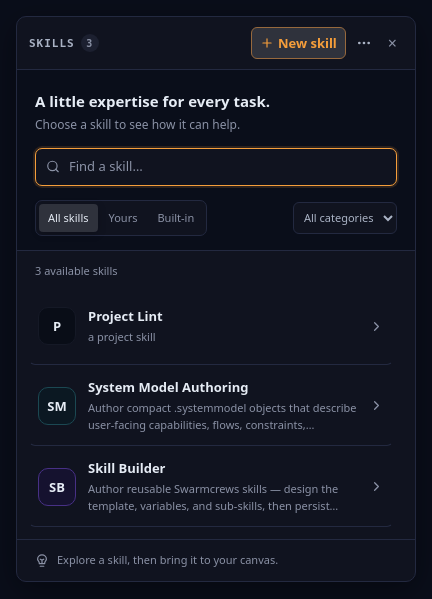
Test: SkillsBrowser › preserves filters and returns focus when leaving skill details
The width and height of the screenshot is (432, 599).
Type "  PROJECT lint  " into the search field named "Search skills" at (228, 166), box [69,157,386,176]
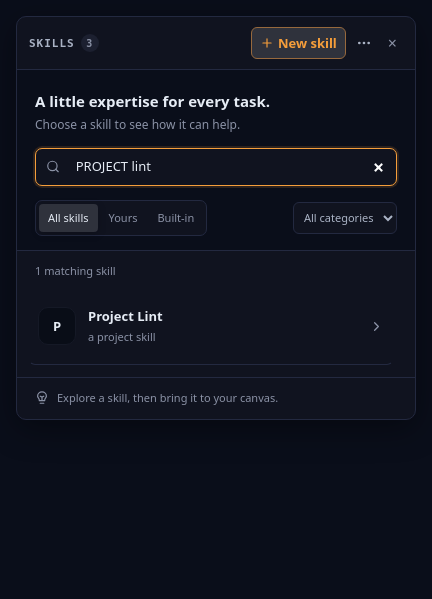
Expected: the message reads "1 matching skill", [35,262,116,278]
Expected: the button "Skill Builder" is gone
Click the button with aria-label "View Project Lint" at (57, 326), box [29,287,393,365]
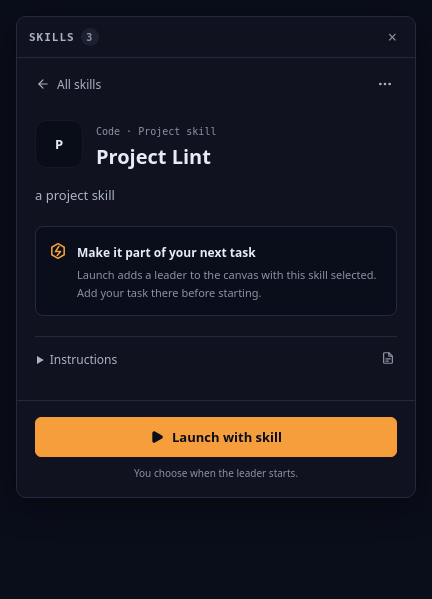
Click the button "All skills" at (69, 84), box [31,68,106,100]
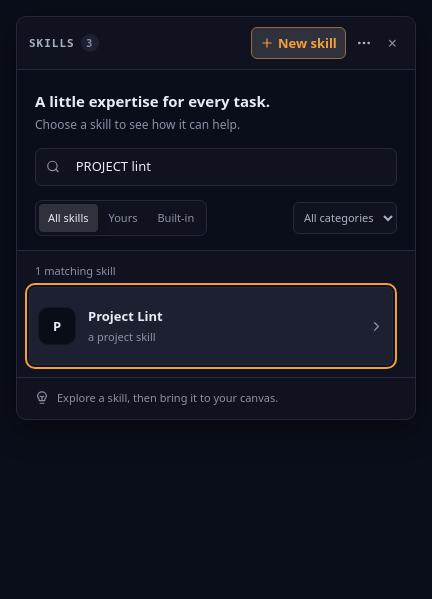
Expected: the search field named "Search skills" holds "  PROJECT lint  ", [69,157,386,176]
